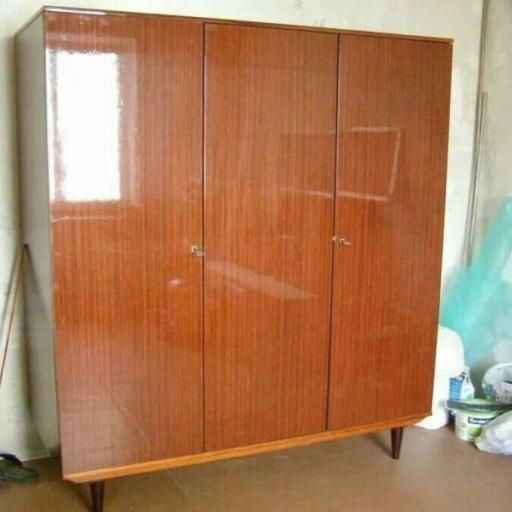bottle: (12, 7, 457, 503)
car: (17, 8, 450, 510)
